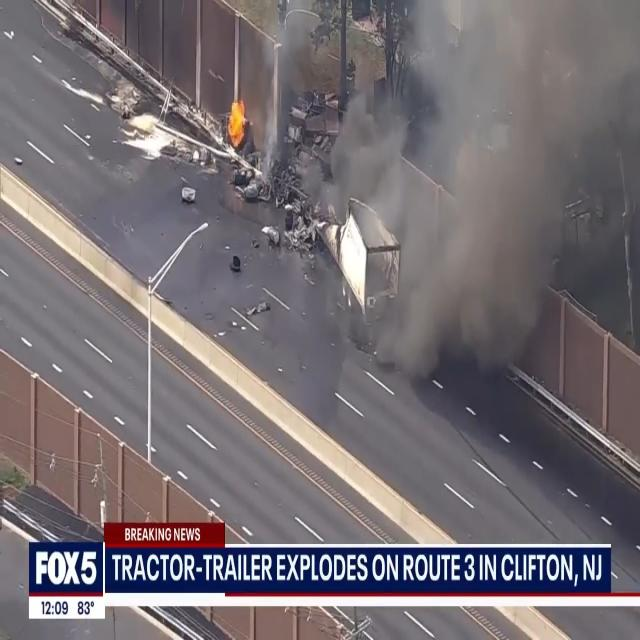fire: (224, 96, 250, 148)
